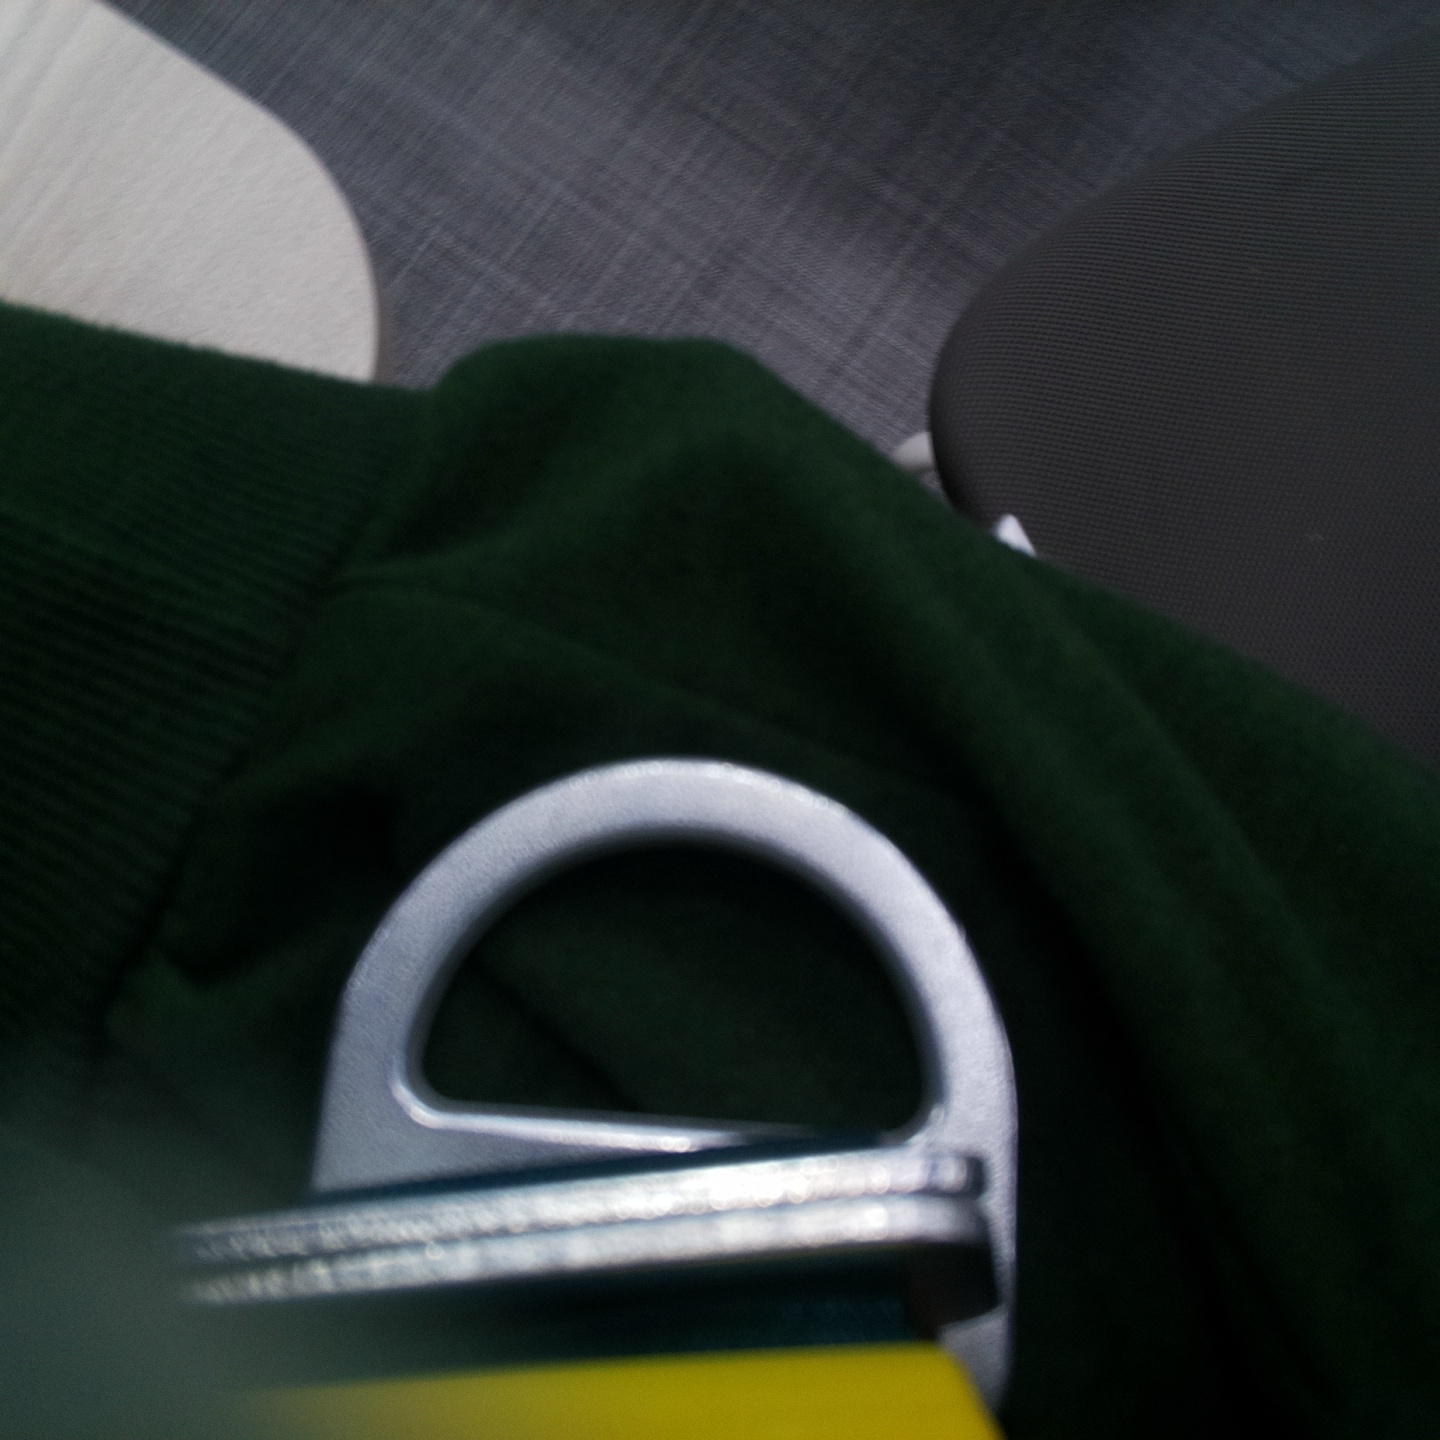UNSUCCESS: (316, 750, 1023, 1158)
